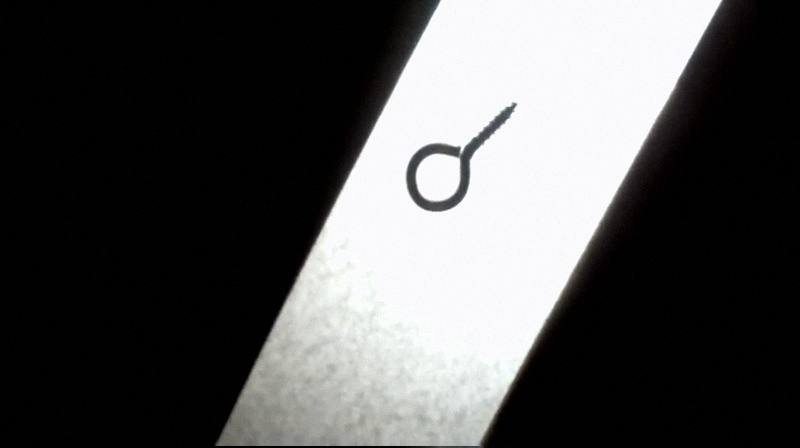O001: (402, 93, 521, 215)
